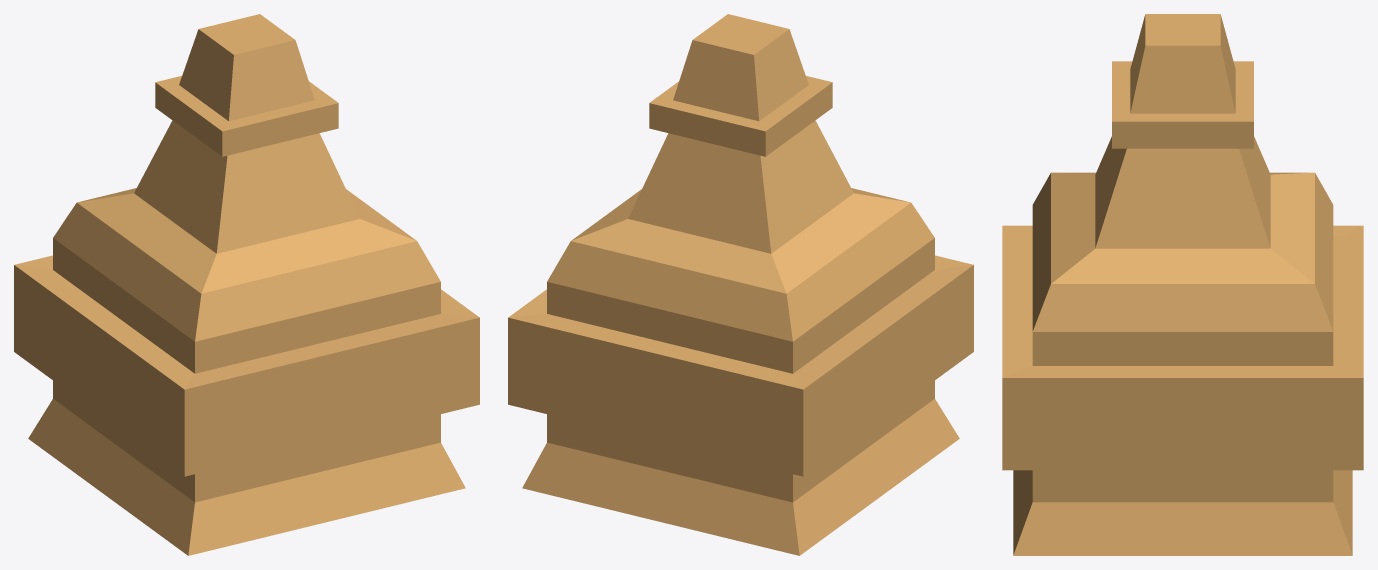
Rendered from MuroCuadrados002.fbx.
3 renders of one model, left to right at view 1: azimuth 30°, elevation 25°; view 2: azimuth 150°, elevation 25°; view 3: azimuth 270°, elevation 25°, orthographic. The views are drawn at different scales.
Visible parts, largest first — view 1: Cube.001; view 2: Cube.001; view 3: Cube.001.
Part boxes in pixels (x1,y1,x2,y2): Cube.001: [14, 14, 479, 555]; Cube.001: [508, 14, 973, 555]; Cube.001: [1002, 14, 1363, 555].
Bounding box in the file's own units: 240 × 333 × 240.
